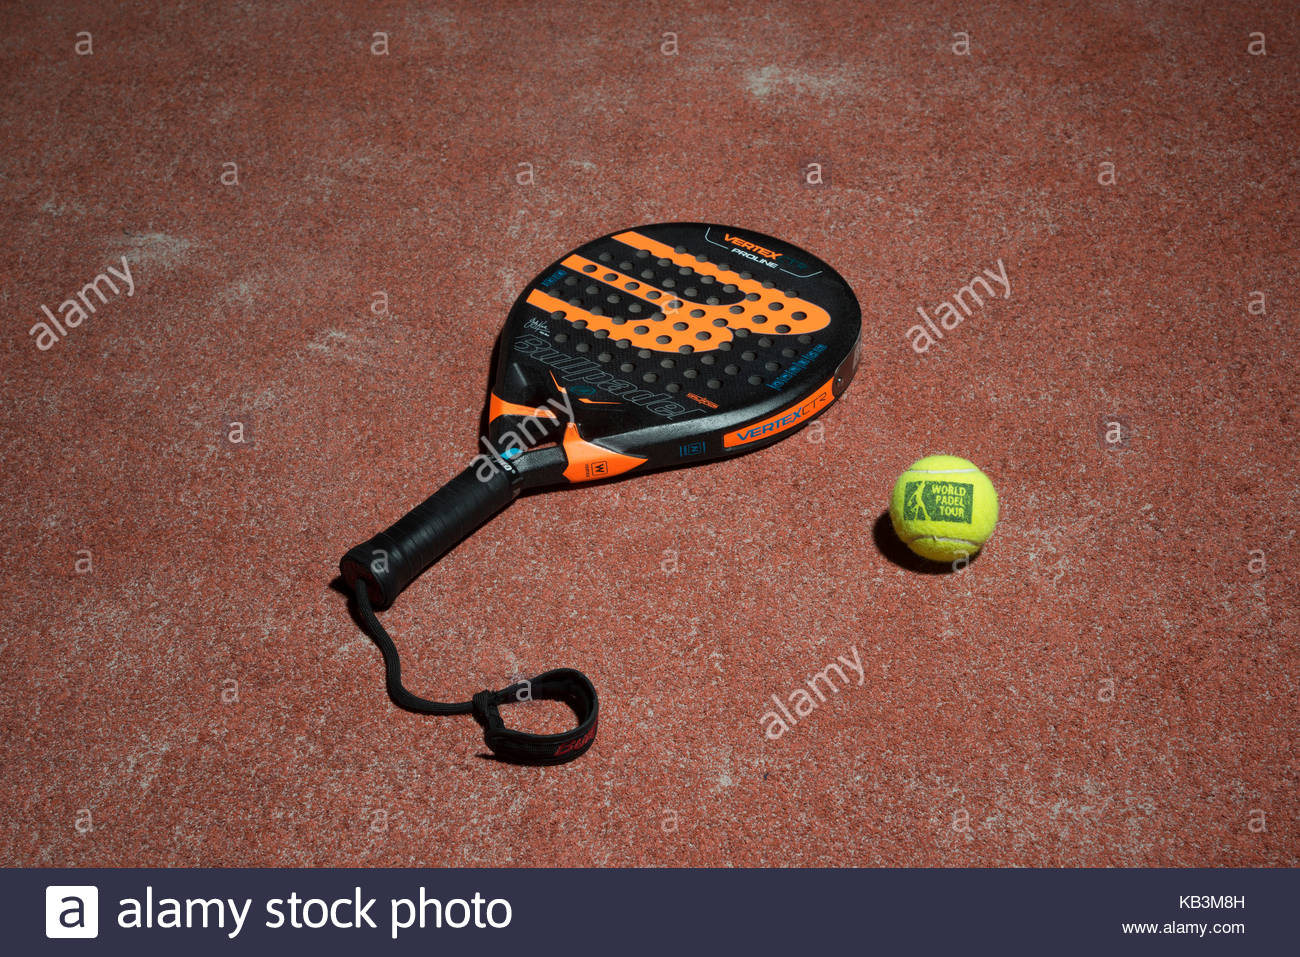tennis_ball: (887, 448, 1000, 565)
